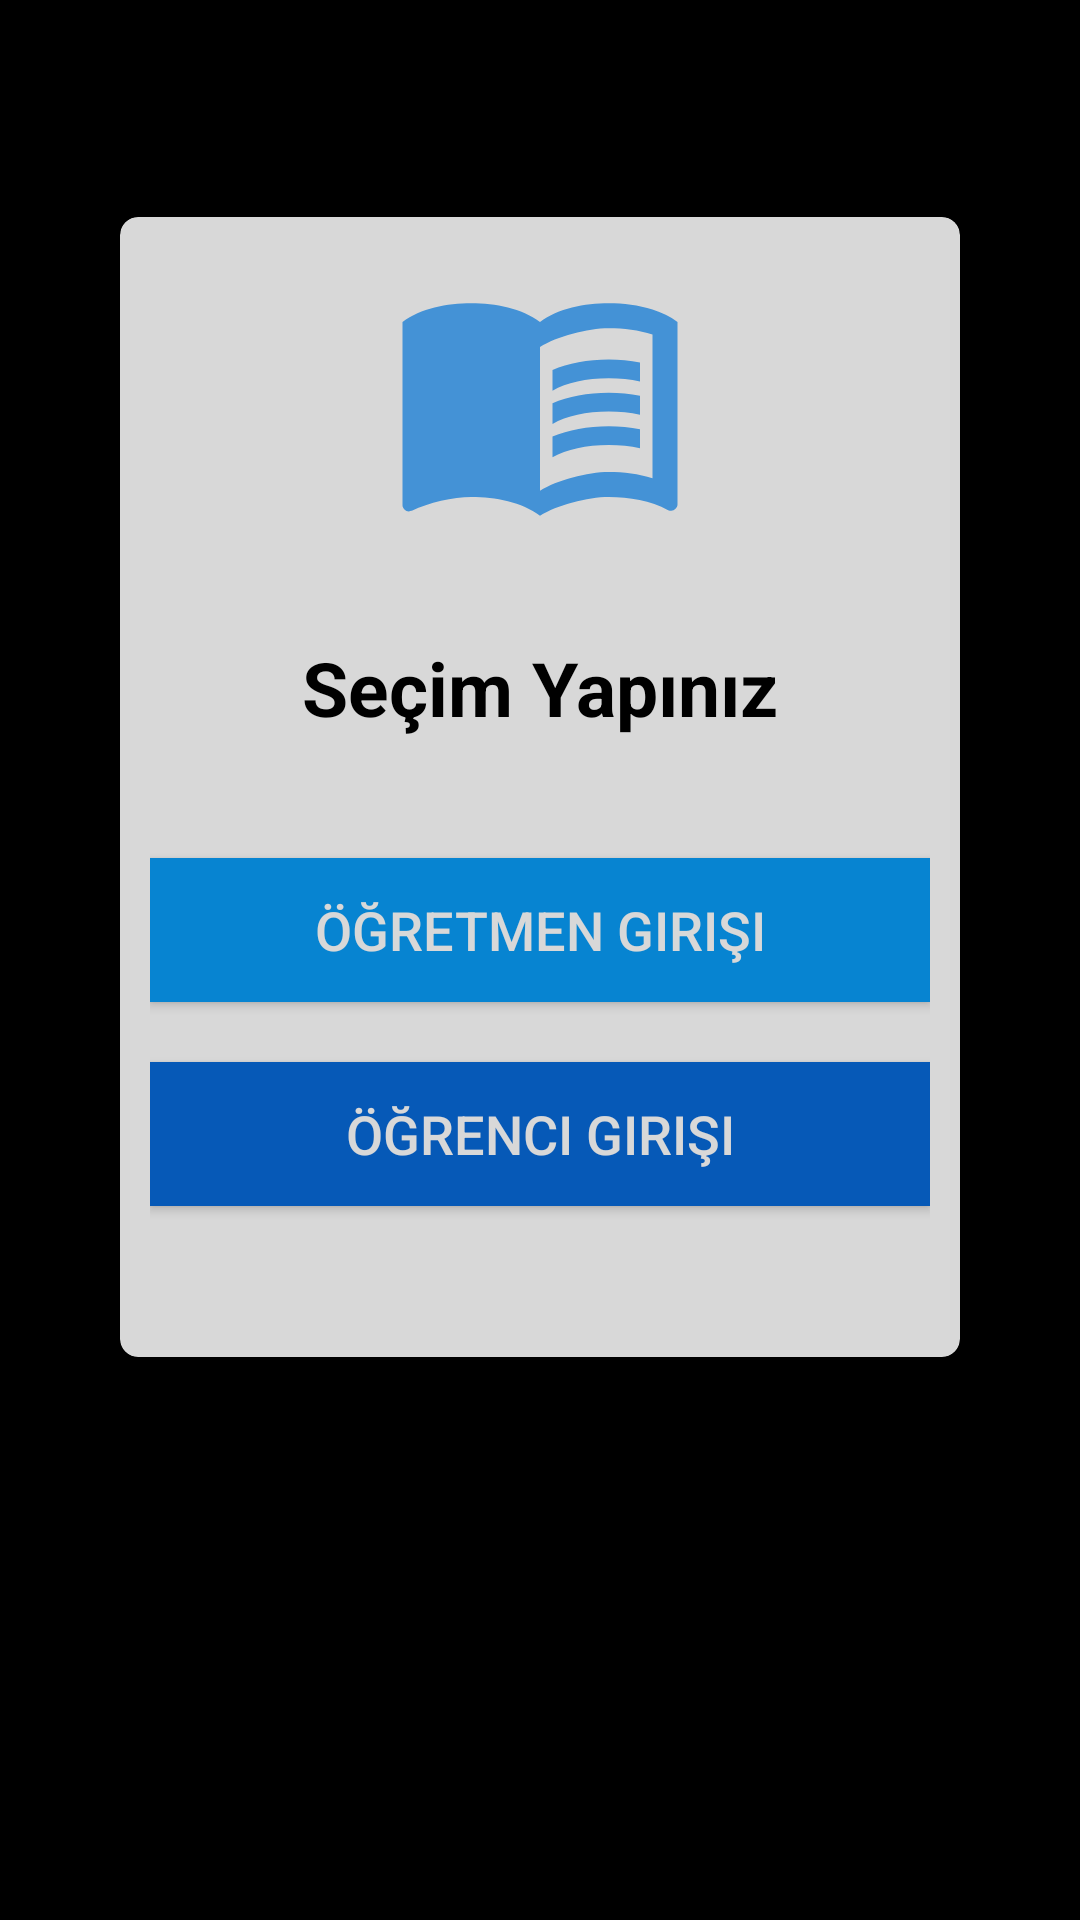

Where icons sit on this 1080*1920 app screen, as (x1, y1, x2, y2):
book: (402, 303, 678, 516)
